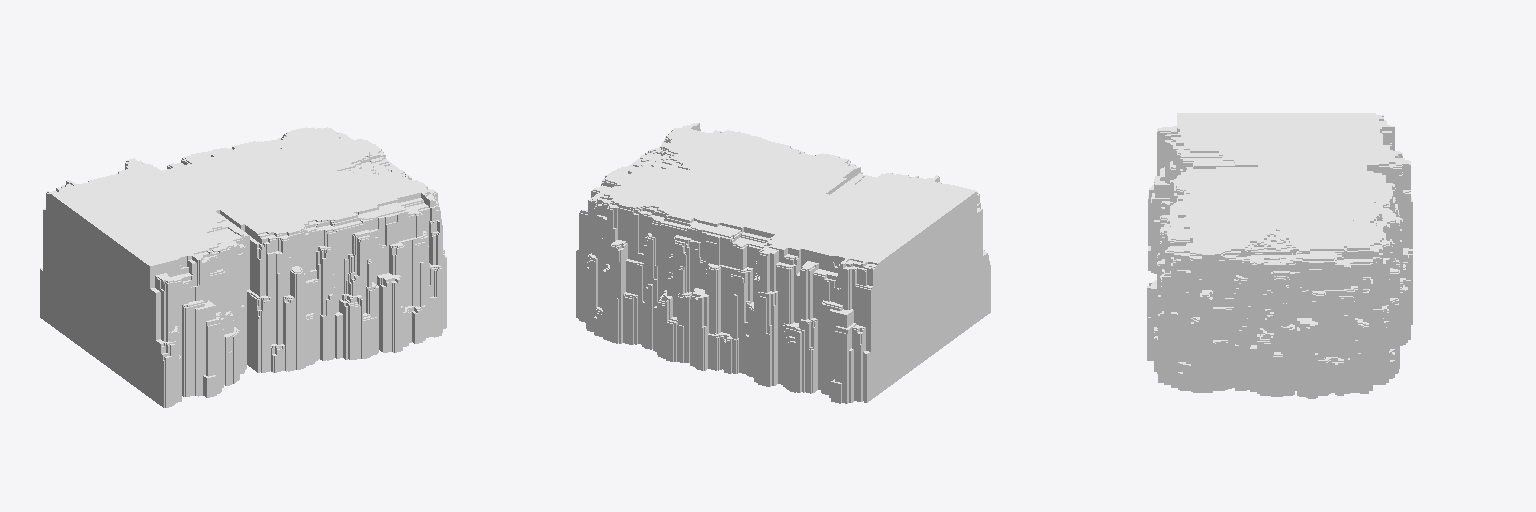
Rendered from forest1.4-179.obj.
3 renders of one model, left to right at view 1: azimuth 30°, elevation 25°; view 2: azimuth 150°, elevation 25°; view 3: azimuth 270°, elevation 25°, orthographic.
Parts seen in each view (by area): view 1: object 1; view 2: object 1; view 3: object 1.
Part boxes in pixels (x1,y1,x2,y2): object 1: (40,127,446,407); object 1: (576,123,990,403); object 1: (1147,113,1412,398).
Size of the model in its own units: 25.1 by 10 by 18.4.